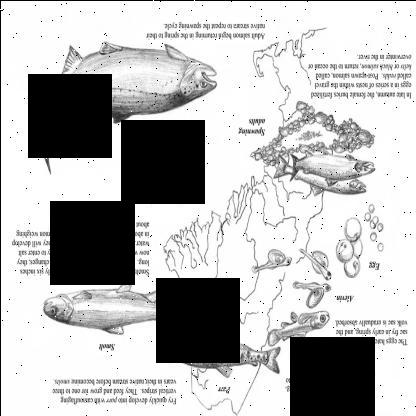fish: (39, 42, 217, 177), (42, 280, 204, 338), (174, 334, 281, 378), (272, 154, 366, 196), (288, 151, 374, 188)
